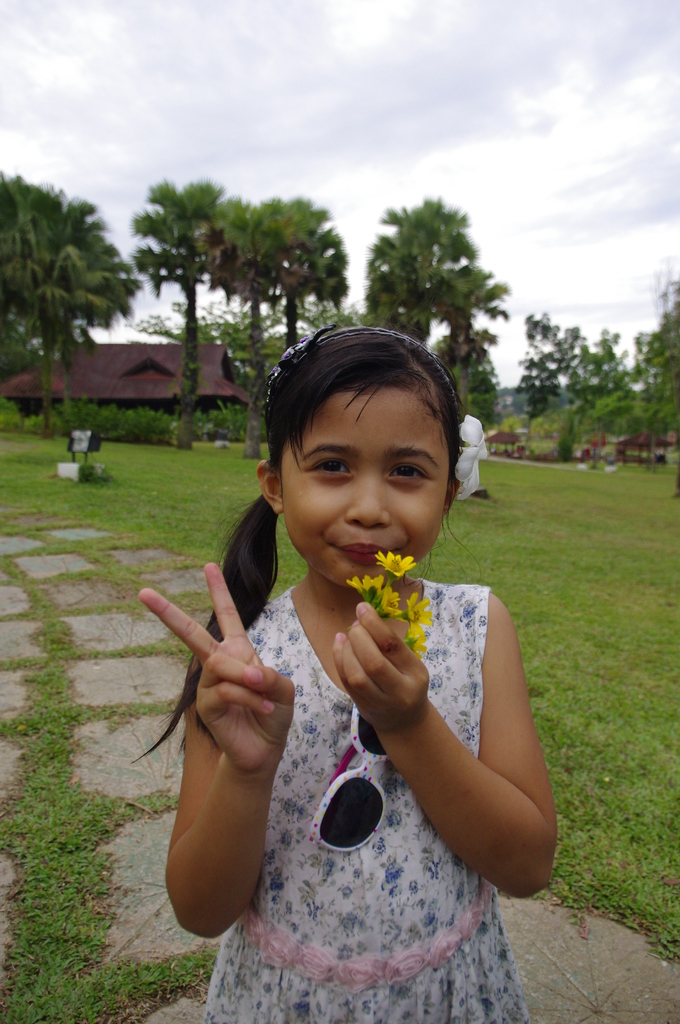Human_hand: (145, 559, 301, 754), (328, 600, 436, 736)
